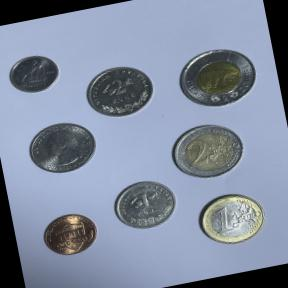1 Euro: (190, 184, 272, 253)
2 Euro: (164, 114, 252, 187)
Canda-10cent-: (2, 48, 68, 100)
Canda-2Dollar-: (170, 38, 266, 116)
Croatia-2Kune-: (78, 57, 162, 126)
US-1cent-: (35, 206, 105, 264)
US-25cent-: (19, 113, 104, 183)
